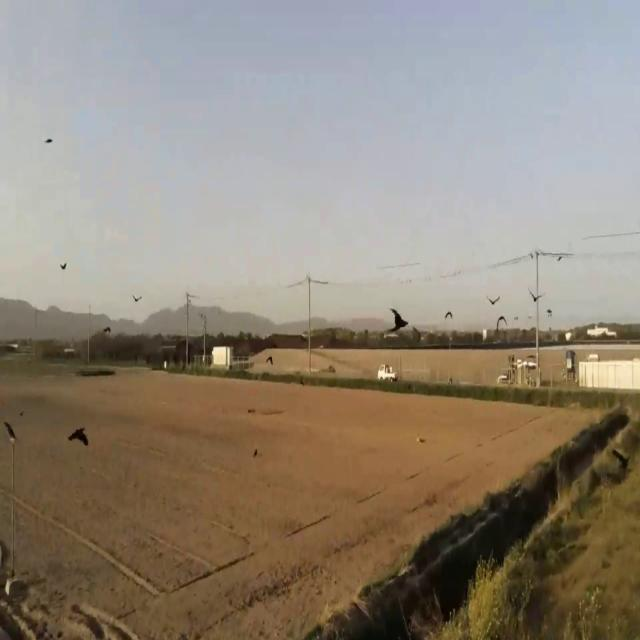bird: (3, 412, 17, 448), (487, 288, 501, 314), (530, 284, 542, 310), (496, 312, 507, 332), (444, 305, 454, 324), (132, 289, 141, 309), (44, 130, 53, 149), (61, 256, 68, 276), (546, 306, 554, 319)
